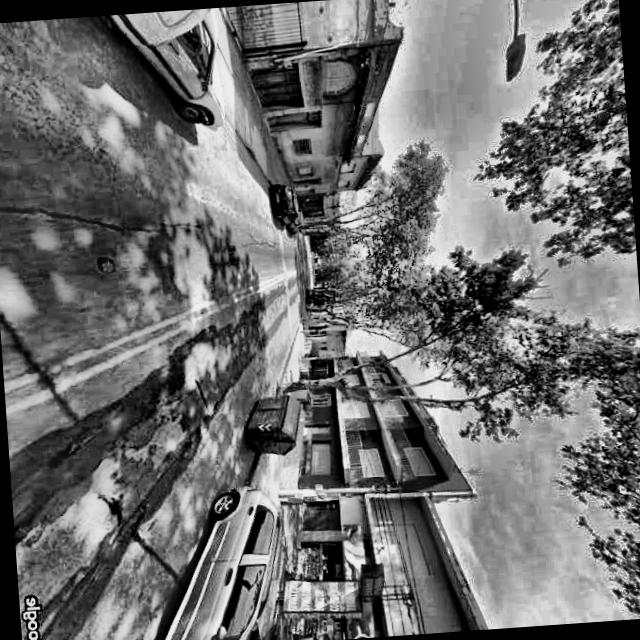Dustbin: (232, 382, 310, 460)
